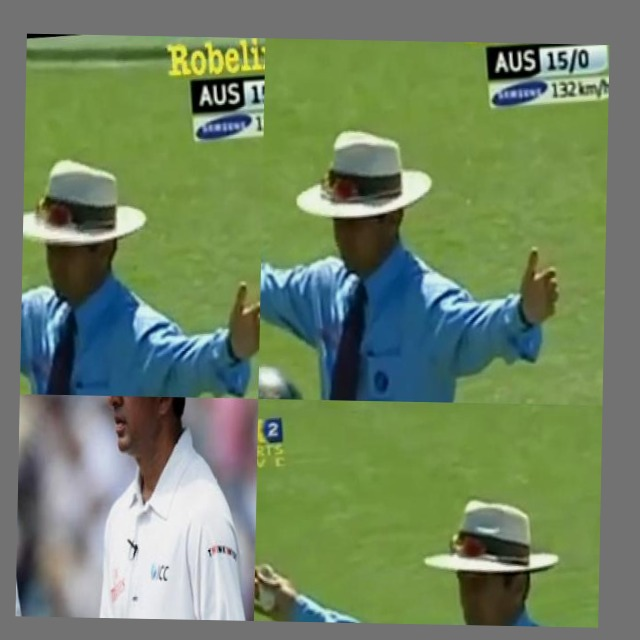No_Action: (28, 394, 258, 621), (15, 394, 173, 619)
Wide: (258, 101, 583, 405), (20, 125, 264, 399), (254, 466, 601, 628)
